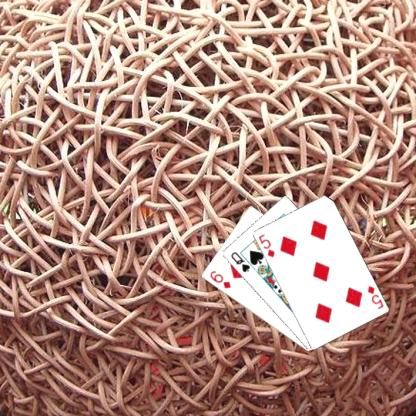5D: (364, 283, 384, 310), (256, 232, 276, 258)
6D: (207, 268, 232, 290)
QS: (228, 249, 251, 273)
